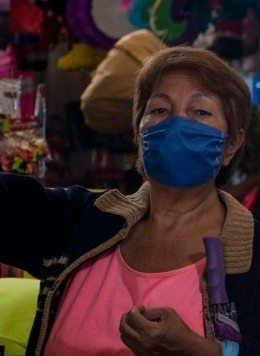with_mask: (136, 67, 240, 184)
